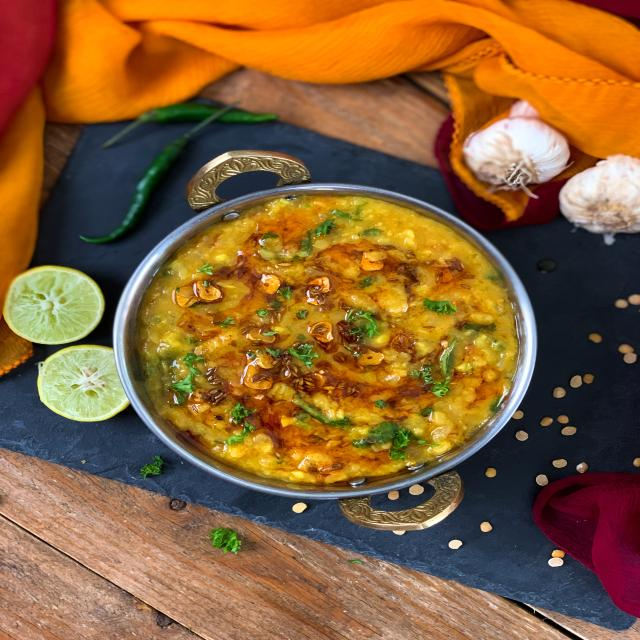dal: (159, 272, 511, 481)
